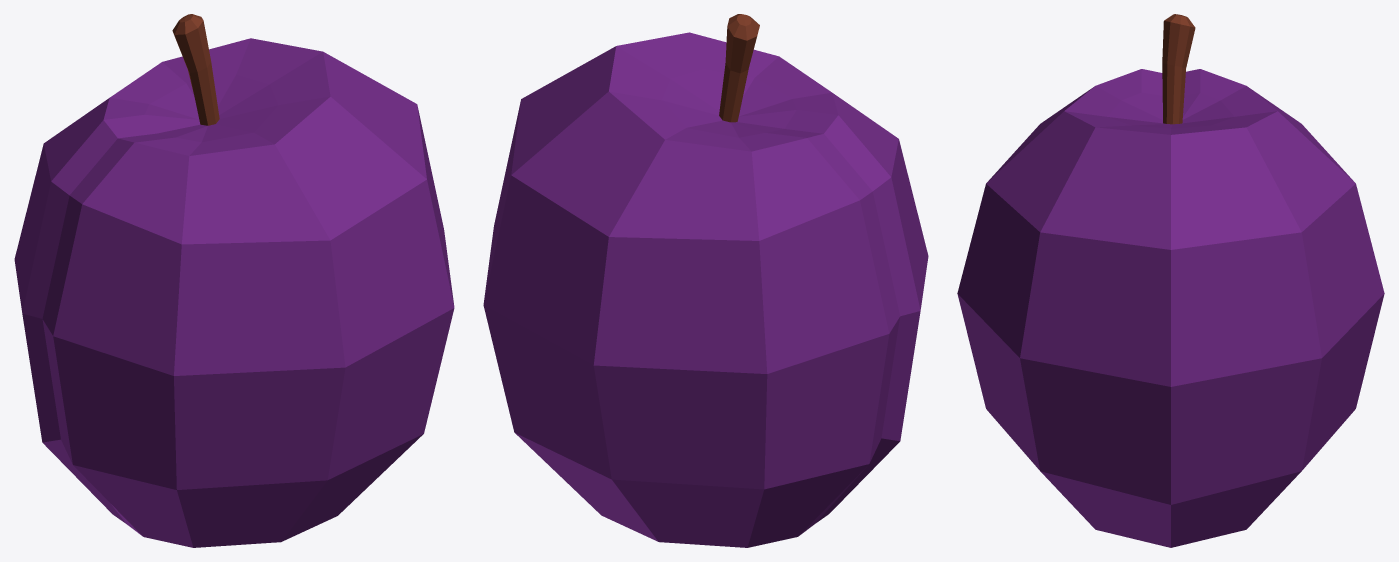
File: Pruim.fbx
3 renders of one model, left to right at view 1: azimuth 30°, elevation 25°; view 2: azimuth 150°, elevation 25°; view 3: azimuth 270°, elevation 25°, orthographic. The views are drawn at different scales.
Parts seen in each view (by area): view 1: Pruim; view 2: Pruim; view 3: Pruim.
Boxes of the visible parts, bbox=[...] form: Pruim: bbox=[14, 14, 454, 547]; Pruim: bbox=[483, 14, 928, 547]; Pruim: bbox=[957, 14, 1384, 547].
Size of the model in its own units: 4.8 by 5.83 by 4.62.
